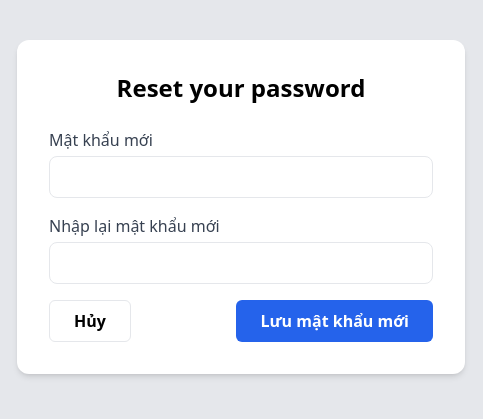
Test case: ResetPasswordPage › shows validation errors when fields are empty
The image size is (483, 419).
Click the button "Lưu mật khẩu mới" at [335, 321], box [236, 300, 433, 342]
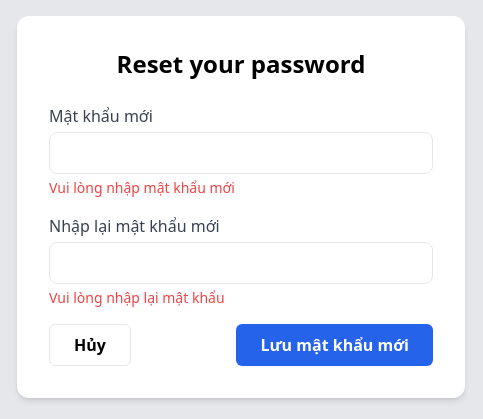
Result: the text "Vui lòng nhập mật khẩu mới" is shown at [49, 178, 235, 197]
Result: the text "Vui lòng nhập lại mật khẩu" is shown at [49, 288, 224, 307]
